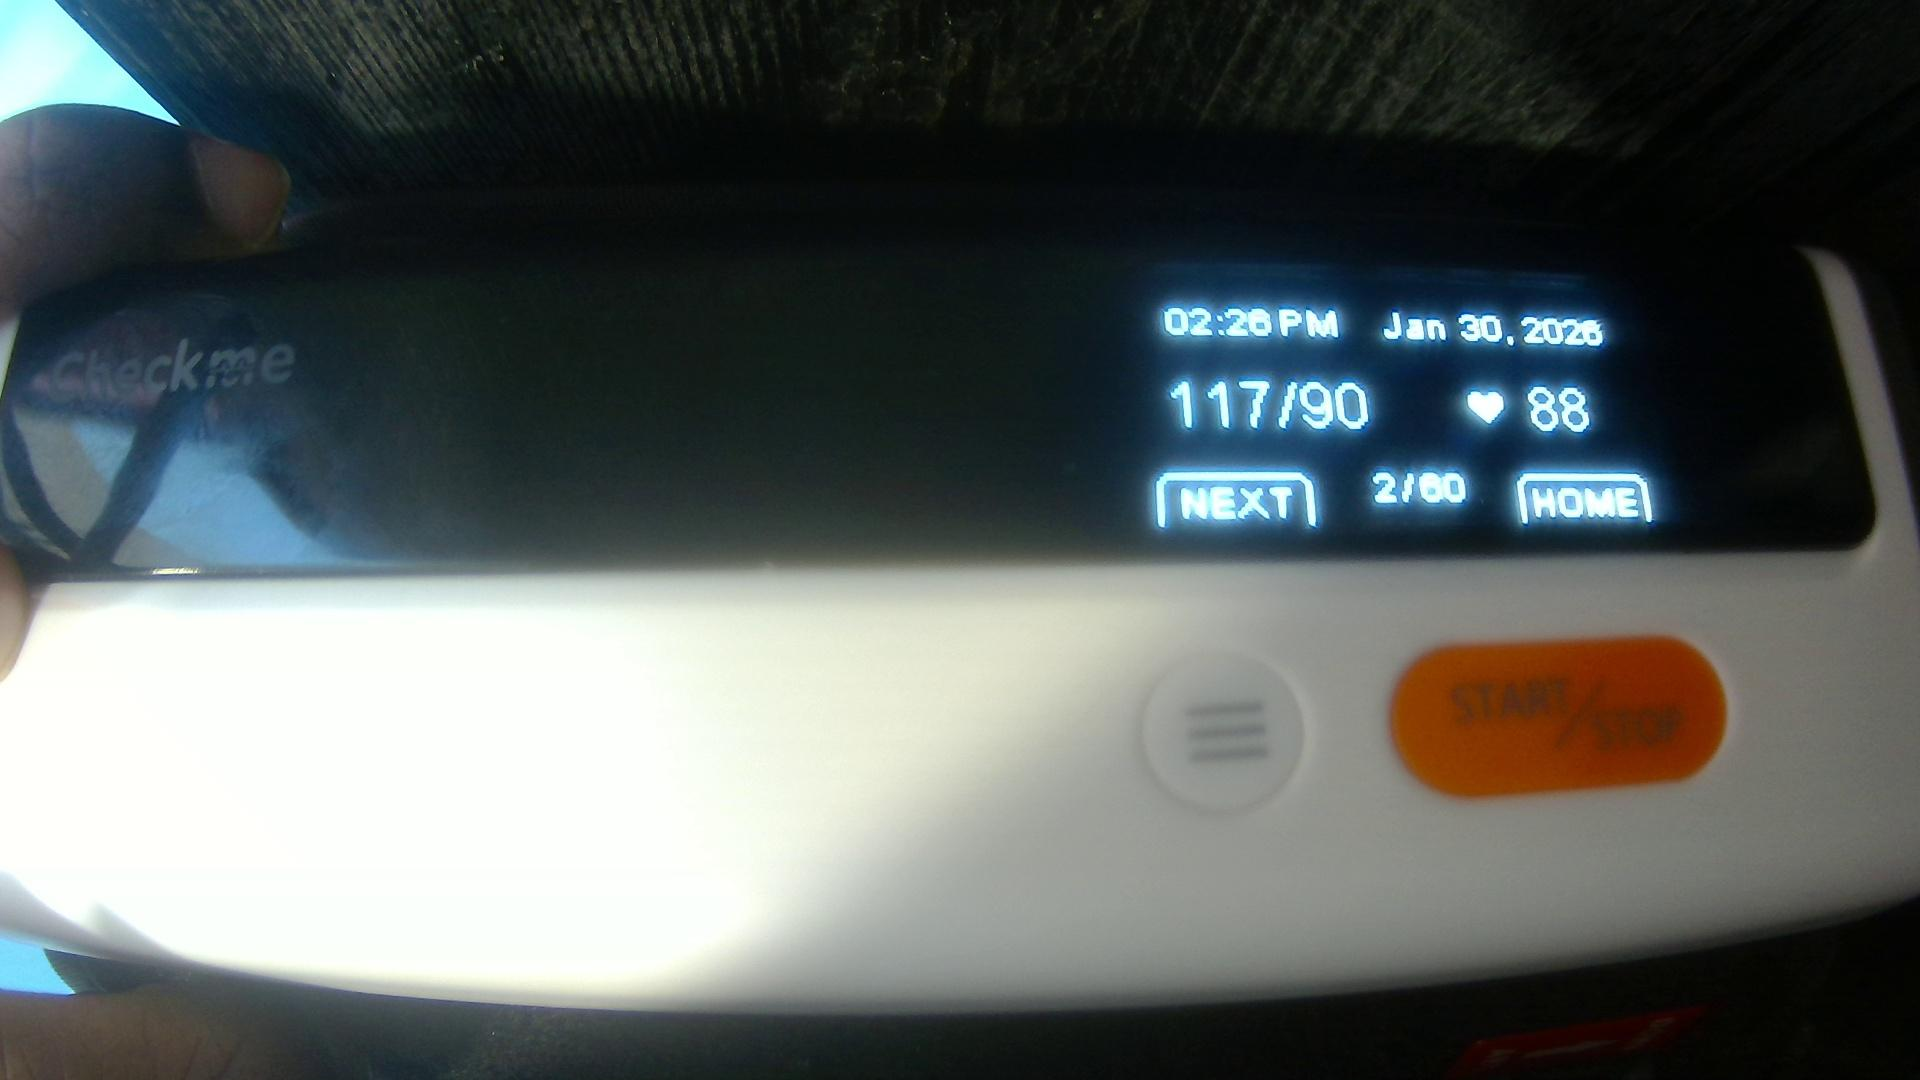DISPLAY: (88, 243, 1871, 568)
